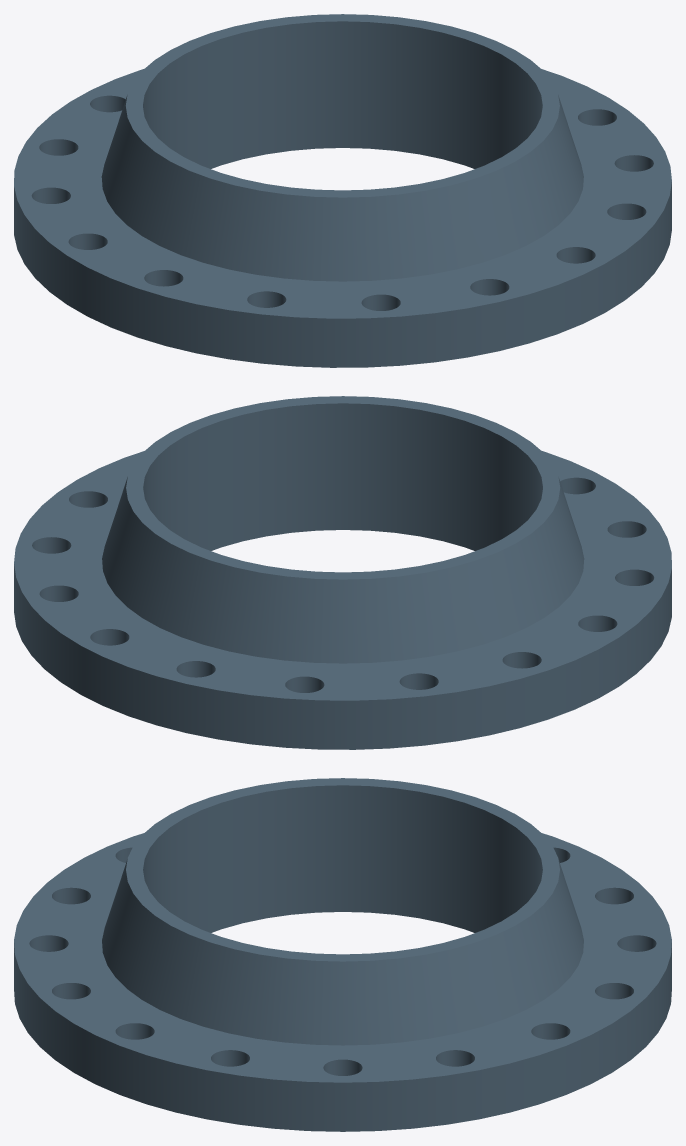
Rendered from flanec-vorotnikovyj-DN400-PN40.glb.
3 views of the same model, one above another, from view 1: azimuth 30°, elevation 25°; view 2: azimuth 150°, elevation 25°; view 3: azimuth 270°, elevation 25° (orthographic).
Parts seen in each view (by area): view 1: Open CASCADE STEP translator 7.9 102; view 2: Open CASCADE STEP translator 7.9 102; view 3: Open CASCADE STEP translator 7.9 102.
Boxes of the visible parts, x1=… form: Open CASCADE STEP translator 7.9 102: x1=14, y1=14, x2=671, y2=367; Open CASCADE STEP translator 7.9 102: x1=14, y1=396, x2=671, y2=749; Open CASCADE STEP translator 7.9 102: x1=14, y1=778, x2=671, y2=1131.
Bounding box in the file's own units: 655 × 139 × 655.
